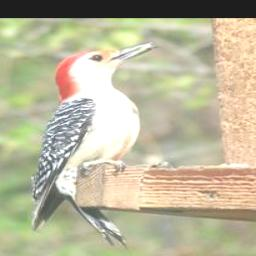Woodpecker: (32, 40, 162, 249)
